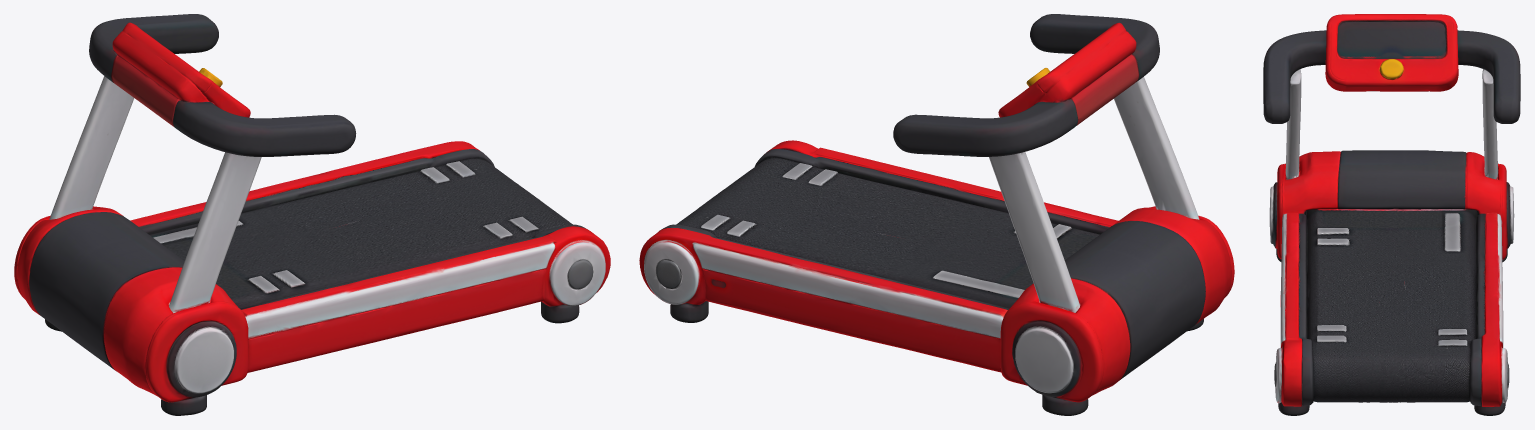
File: treadmill.glb
3 renders of one model, left to right at view 1: azimuth 30°, elevation 25°; view 2: azimuth 150°, elevation 25°; view 3: azimuth 270°, elevation 25°, orthographic. The views are drawn at different scales.
Visible parts, largest first — view 1: tripo_node_3573550c-a6e3-4558-afba-093cd5c12efa; view 2: tripo_node_3573550c-a6e3-4558-afba-093cd5c12efa; view 3: tripo_node_3573550c-a6e3-4558-afba-093cd5c12efa.
Boxes of the visible parts, x1=… form: tripo_node_3573550c-a6e3-4558-afba-093cd5c12efa: x1=14, y1=14, x2=610, y2=415; tripo_node_3573550c-a6e3-4558-afba-093cd5c12efa: x1=639, y1=14, x2=1234, y2=415; tripo_node_3573550c-a6e3-4558-afba-093cd5c12efa: x1=1263, y1=14, x2=1520, y2=415.
Size of the model in its own units: 0.9799 by 0.6093 by 0.55.
1 material, 1 textured.
